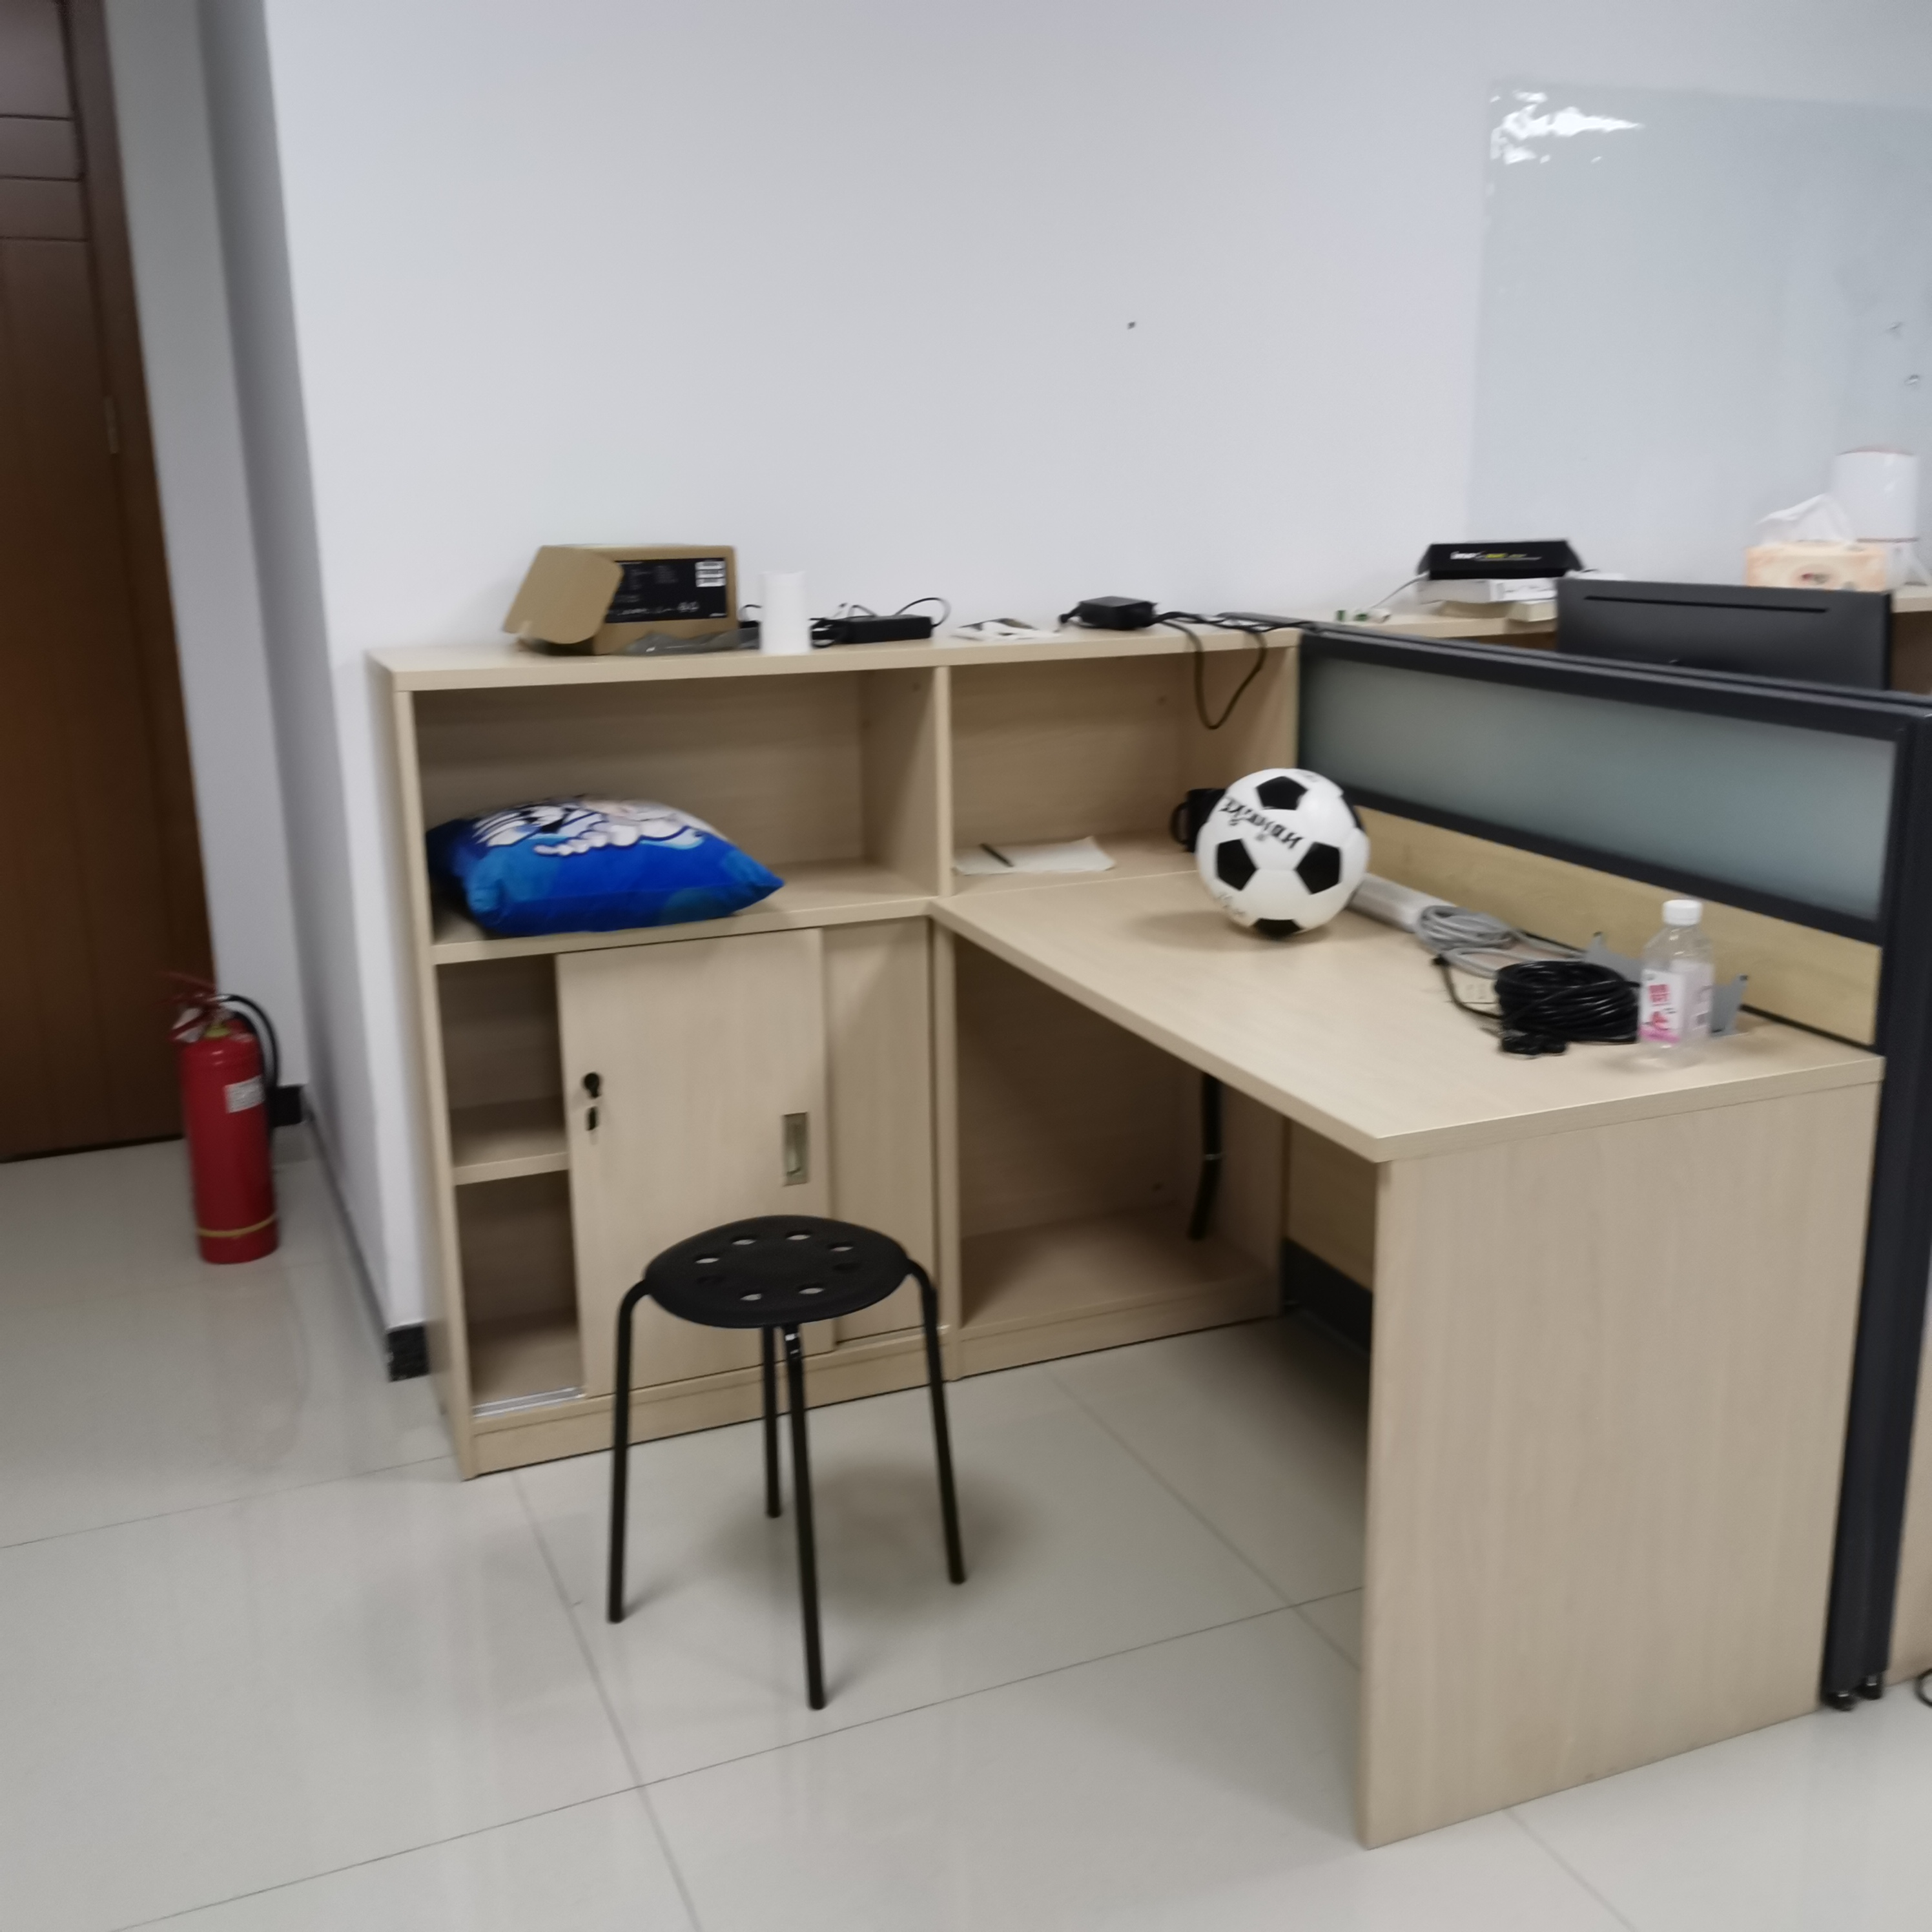football: (1194, 766, 1373, 939)
